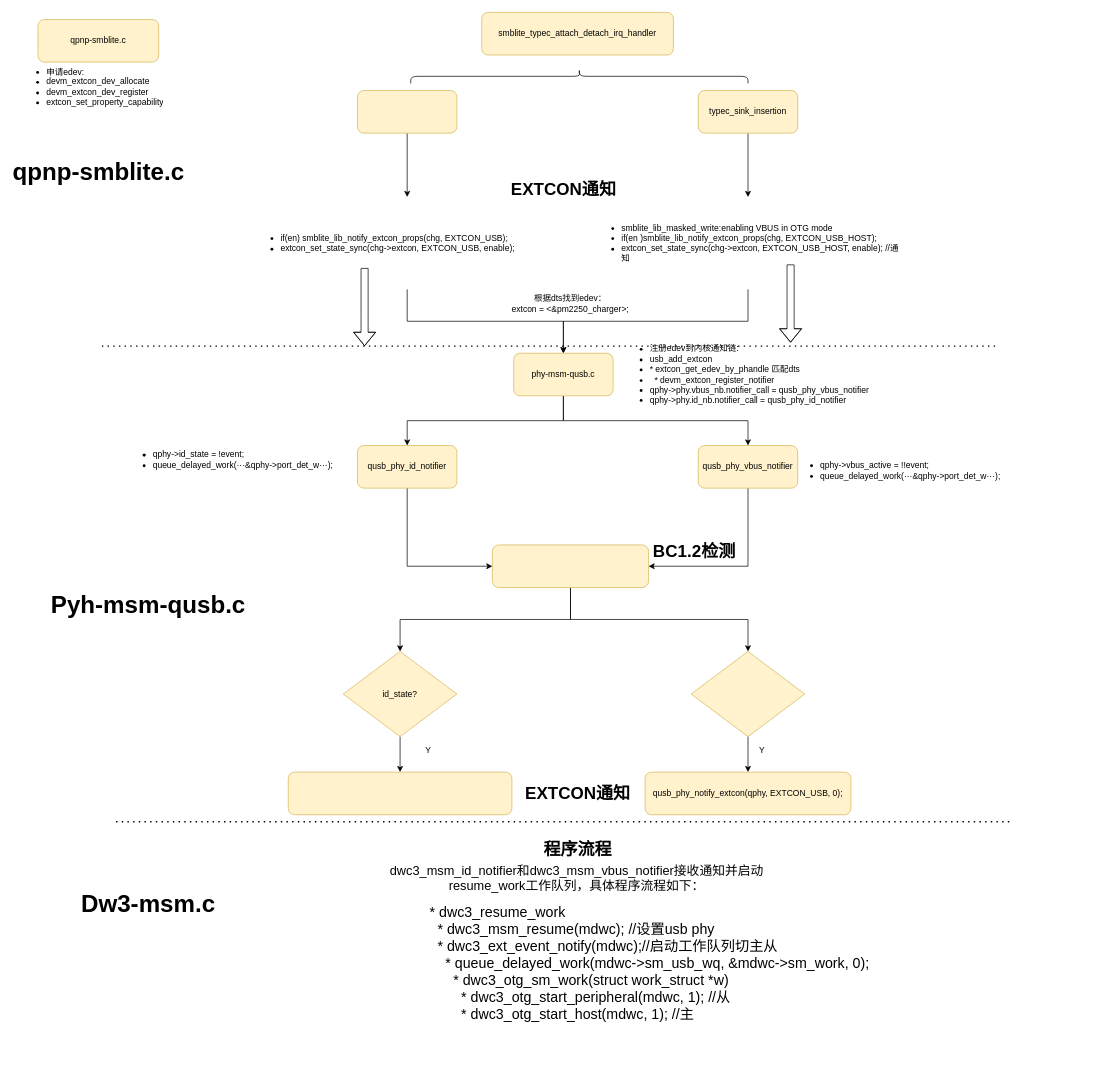
This 1115x1069 diagram has some shape labels left out. Each missing label, with the box of its shape:
qusb_phy_notify_extcon(qphy, EXTCON_USB_HOST, 0): (288, 771, 512, 815)
qusb_phy_port_state_work: (492, 544, 649, 588)
typec_src_insertion: (357, 90, 457, 133)
vbus_active?: (690, 651, 805, 737)
